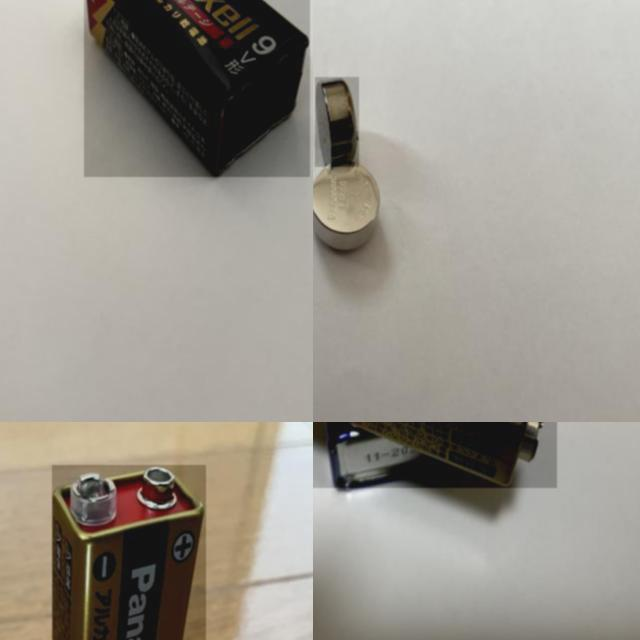9V: (84, 0, 310, 177), (52, 465, 206, 640), (313, 422, 557, 488), (326, 422, 457, 502)
